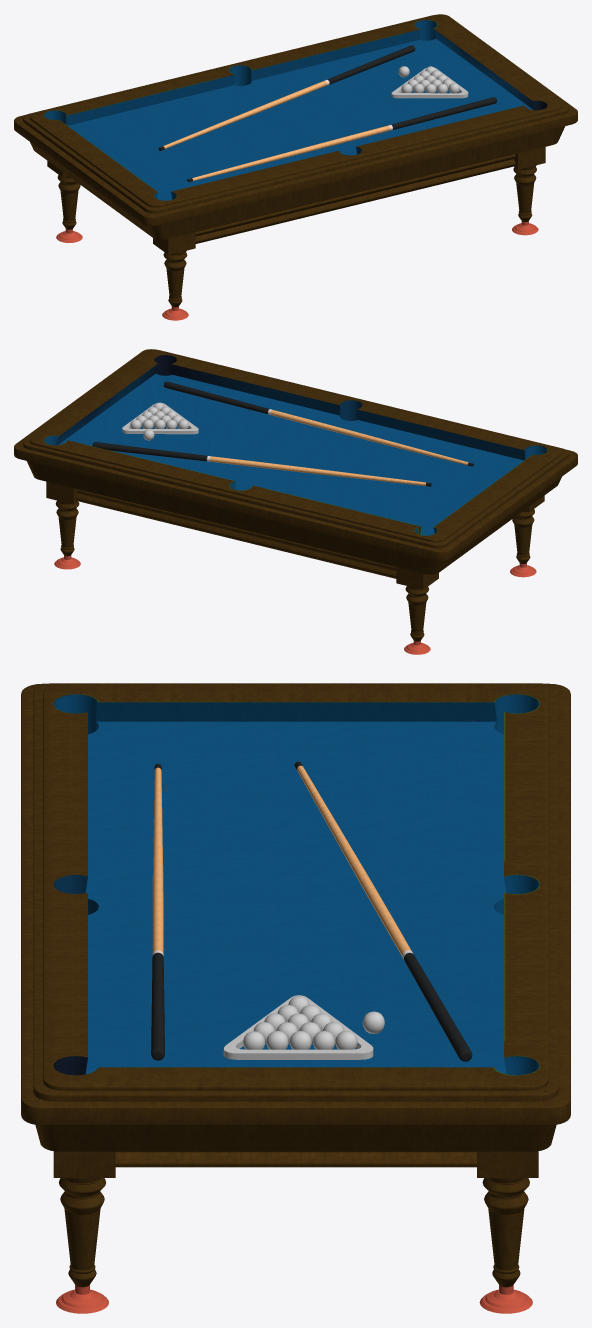
3 renders of one model, top to bottom at view 1: azimuth 30°, elevation 25°; view 2: azimuth 150°, elevation 25°; view 3: azimuth 270°, elevation 25°, orthographic. The views are drawn at different scales.
Visible parts, largest first — view 1: Billiard Table, Cue, Cue.001, Triangle; view 2: Billiard Table, Cue.001, Cue, Triangle; view 3: Billiard Table, Cue.001, Cue, Triangle.
Boxes of the visible parts, bbox=[...] form: Billiard Table: bbox=[14, 14, 577, 320]; Cue: bbox=[187, 97, 496, 181]; Cue.001: bbox=[158, 45, 415, 150]; Triangle: bbox=[391, 68, 468, 98]; Billiard Table: bbox=[14, 349, 577, 654]; Cue.001: bbox=[92, 442, 431, 486]; Cue: bbox=[163, 381, 473, 466]; Triangle: bbox=[122, 402, 198, 434]; Billiard Table: bbox=[21, 683, 570, 1313]; Cue.001: bbox=[294, 761, 472, 1061]; Cue: bbox=[151, 763, 164, 1060]; Triangle: bbox=[223, 995, 373, 1059].
Size of the model in its own units: 291 by 78.86 by 160.
